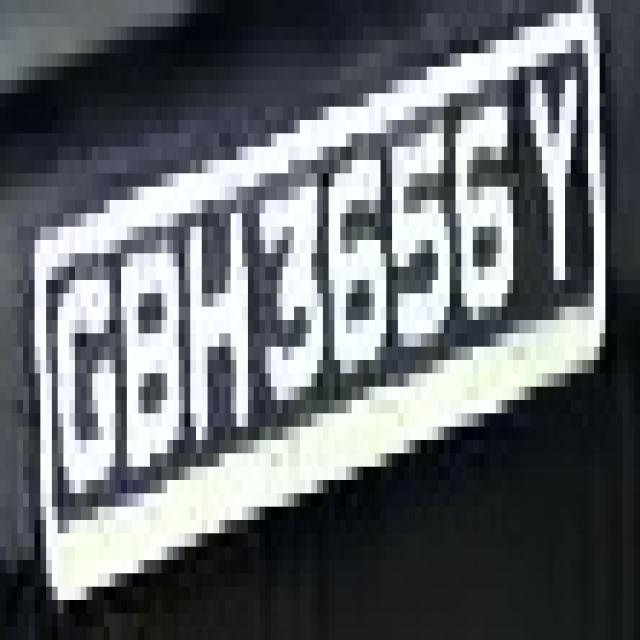3: (248, 147, 334, 493)
5: (381, 94, 467, 414)
6: (311, 107, 398, 400), (456, 93, 530, 347)
B: (110, 214, 190, 494)
G: (46, 267, 121, 533)
H: (173, 186, 259, 506)
Y: (513, 0, 611, 320)
